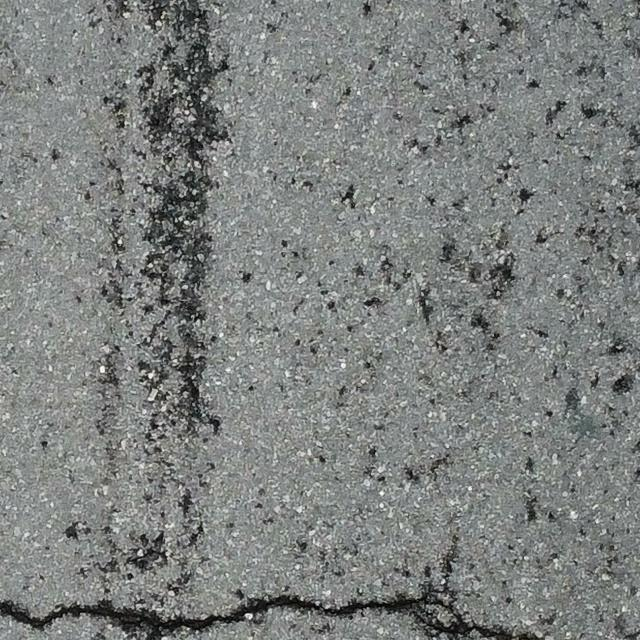TransverseCrack: (1, 577, 547, 640)
